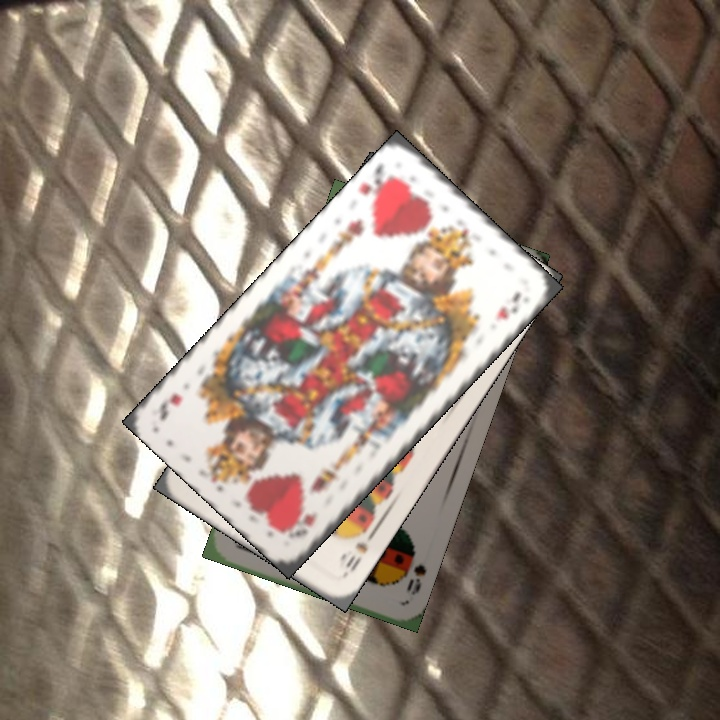HK: (354, 158, 398, 208), (283, 507, 320, 541)
S10: (341, 528, 378, 574)
SO: (402, 560, 429, 598)
